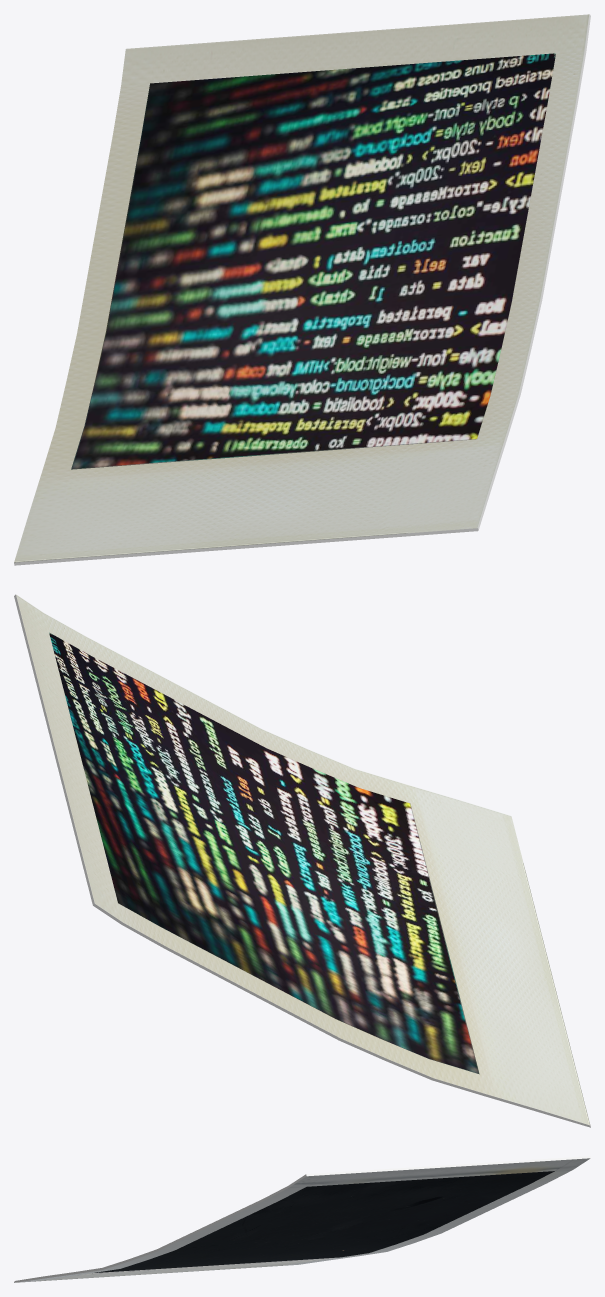
File: polaroidProjectes.glb
3 renders of one model, top to bottom at view 1: azimuth 30°, elevation 25°; view 2: azimuth 150°, elevation 25°; view 3: azimuth 270°, elevation 25°, orthographic. The views are drawn at different scales.
Visible parts, largest first — view 1: Object_3, Object_5; view 2: Object_3, Object_5; view 3: Object_4, Object_5.
Part boxes in pixels (x1,y1,x2,y2): Object_3: (71, 53, 555, 469); Object_5: (14, 14, 590, 565); Object_3: (49, 632, 479, 1074); Object_5: (14, 594, 590, 1127); Object_4: (95, 1171, 554, 1272); Object_5: (14, 1156, 590, 1282).
Bounding box in the file's own units: 27.2 × 18.12 × 31.5.
3 materials, 3 textured.
